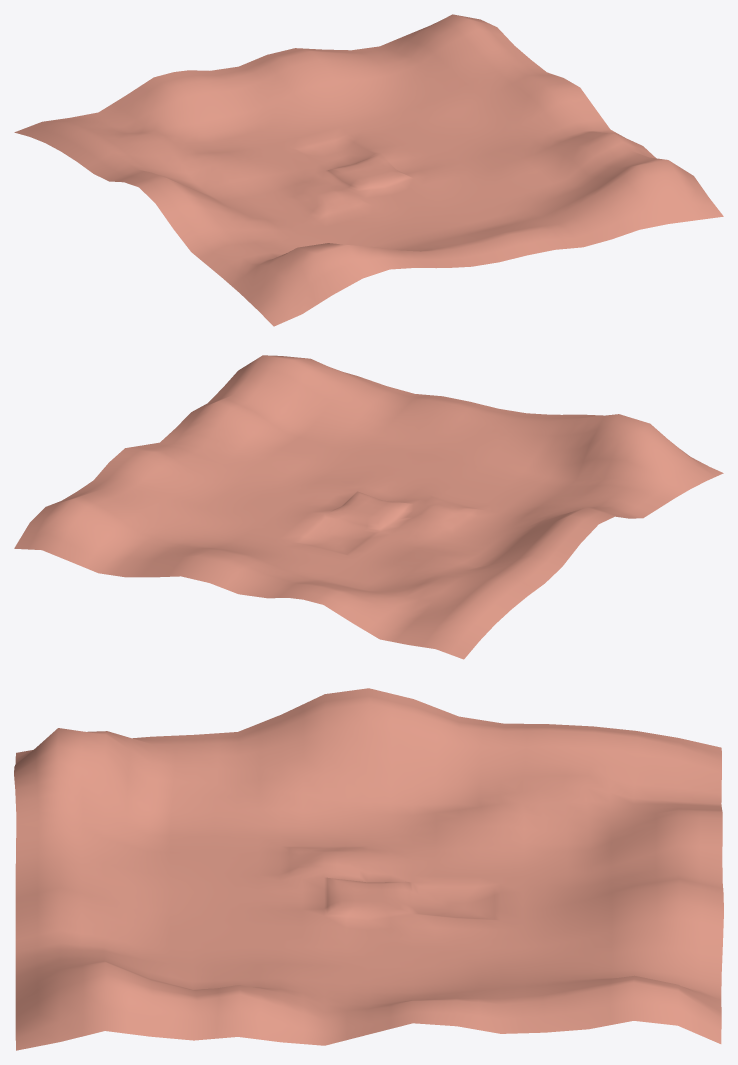
Rendered from terrain.fbx.
3 renders of one model, top to bottom at view 1: azimuth 30°, elevation 25°; view 2: azimuth 150°, elevation 25°; view 3: azimuth 270°, elevation 25°, orthographic. The views are drawn at different scales.
Visible parts, largest first — view 1: LD_Terrain; view 2: LD_Terrain; view 3: LD_Terrain.
Boxes of the visible parts, <box> form: LD_Terrain: <box>14,14,723,326</box>; LD_Terrain: <box>14,355,723,659</box>; LD_Terrain: <box>14,688,723,1050</box>.
Bounding box in the file's own units: 24436 × 2648 × 24176.
